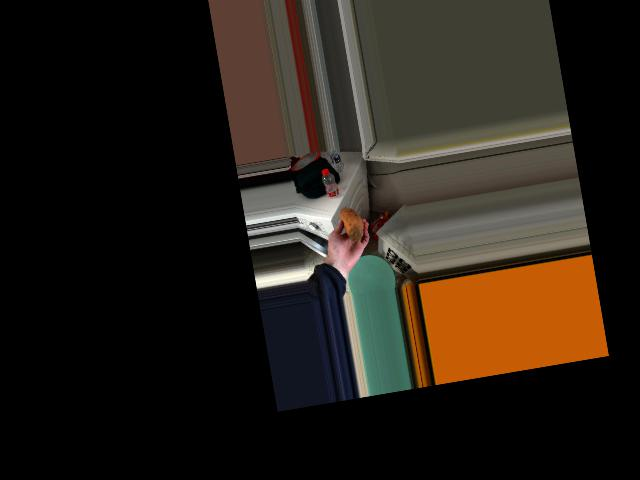sweet_potato: (341, 204, 365, 247)
